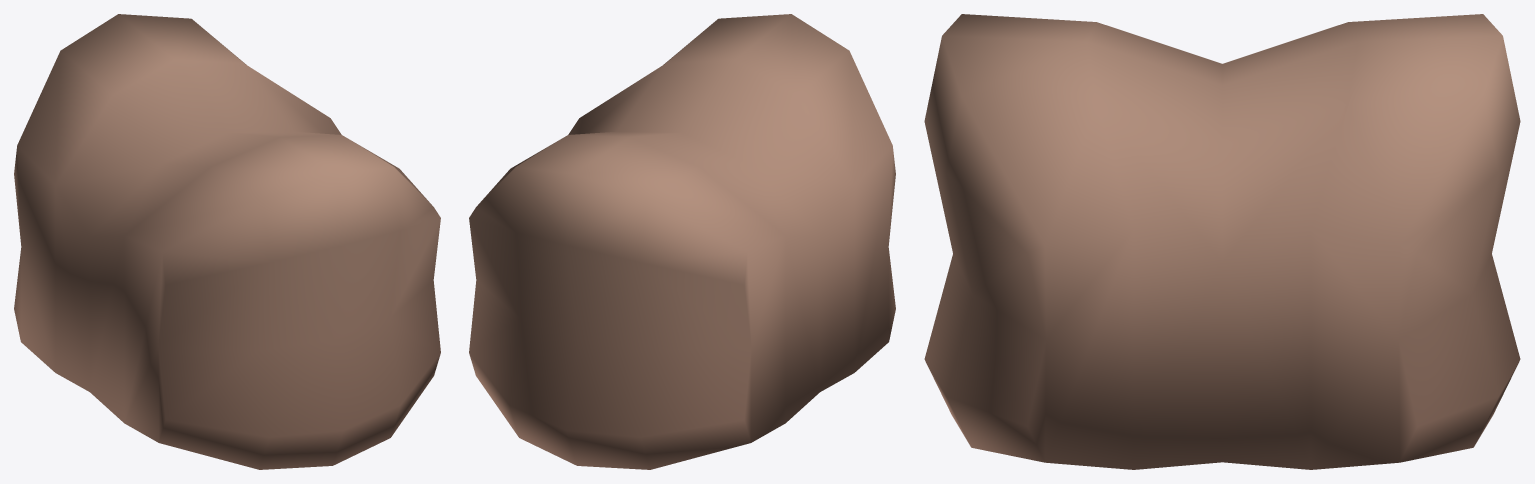
The model's file is pillow-fluffy-square-dented.glb.
3 renders of one model, left to right at view 1: azimuth 30°, elevation 25°; view 2: azimuth 150°, elevation 25°; view 3: azimuth 270°, elevation 25°, orthographic. The views are drawn at different scales.
Visible parts, largest first — view 1: pillow-fluffy-square-dented; view 2: pillow-fluffy-square-dented; view 3: pillow-fluffy-square-dented.
Part boxes in pixels (x1,y1,x2,y2): pillow-fluffy-square-dented: [14, 14, 440, 469]; pillow-fluffy-square-dented: [469, 14, 895, 469]; pillow-fluffy-square-dented: [924, 14, 1520, 469].
Size of the model in its own units: 0.2336 by 0.2461 by 0.3409.
